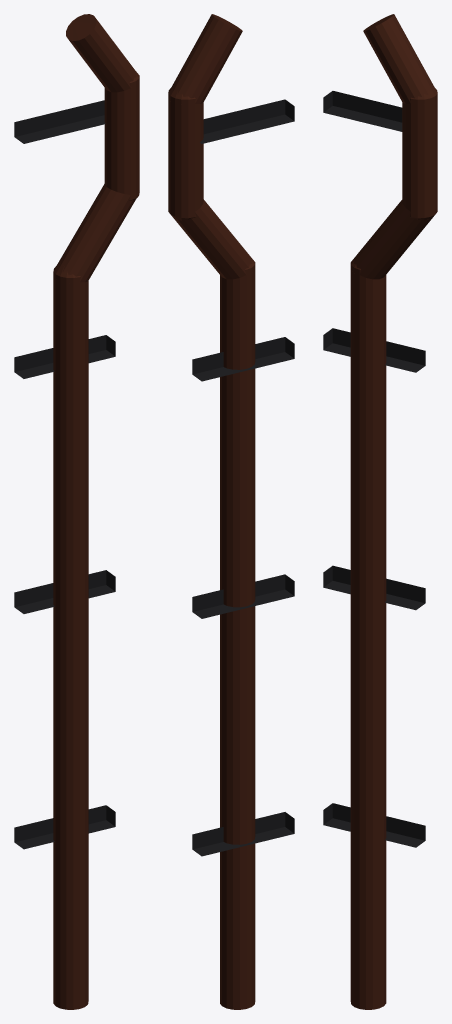
The model's file is GalakasMidCity_PIECE_DrainpipeMetal_01.obj.
3 renders of one model, left to right at view 1: azimuth 30°, elevation 25°; view 2: azimuth 210°, elevation 25°; view 3: azimuth 330°, elevation 25°, orthographic.
Parts seen in each view (by area): view 1: high_quality_curved_drainpipe_seg0, high_quality_curved_drainpipe_seg2, high_quality_curved_drainpipe_seg1, high_quality_curved_drainpipe_seg3, pipe_wall_bracket_4_1, pipe_wall_bracket_0_8, pipe_wall_bracket_3_0, pipe_wall_bracket_1_9, high_quality_curved_drainpipe_seg3_capB; view 2: high_quality_curved_drainpipe_seg0, high_quality_curved_drainpipe_seg2, high_quality_curved_drainpipe_seg3, high_quality_curved_drainpipe_seg1, pipe_wall_bracket_4_1, pipe_wall_bracket_0_8, pipe_wall_bracket_3_0, pipe_wall_bracket_1_9; view 3: high_quality_curved_drainpipe_seg0, high_quality_curved_drainpipe_seg2, high_quality_curved_drainpipe_seg3, high_quality_curved_drainpipe_seg1, pipe_wall_bracket_4_1, pipe_wall_bracket_1_9, pipe_wall_bracket_0_8, pipe_wall_bracket_3_0.
Part boxes in pixels (x1,y1,x2,y2): high_quality_curved_drainpipe_seg0: (53, 277, 88, 1009); high_quality_curved_drainpipe_seg2: (104, 81, 139, 194); high_quality_curved_drainpipe_seg1: (56, 184, 136, 282); high_quality_curved_drainpipe_seg3: (69, 19, 137, 92); pipe_wall_bracket_4_1: (14, 100, 105, 143); pipe_wall_bracket_0_8: (14, 805, 115, 849); pipe_wall_bracket_3_0: (14, 335, 115, 378); pipe_wall_bracket_1_9: (14, 570, 115, 613); high_quality_curved_drainpipe_seg3_capB: (66, 14, 96, 40); high_quality_curved_drainpipe_seg0: (220, 268, 255, 1009); high_quality_curved_drainpipe_seg2: (168, 99, 203, 212); high_quality_curved_drainpipe_seg3: (171, 14, 242, 103); high_quality_curved_drainpipe_seg1: (174, 199, 252, 279); pipe_wall_bracket_4_1: (200, 99, 294, 143); pipe_wall_bracket_0_8: (192, 812, 294, 856); pipe_wall_bracket_3_0: (192, 337, 294, 381); pipe_wall_bracket_1_9: (192, 574, 294, 618); high_quality_curved_drainpipe_seg0: (350, 268, 386, 1009); high_quality_curved_drainpipe_seg2: (402, 99, 437, 212); high_quality_curved_drainpipe_seg3: (363, 14, 434, 103); high_quality_curved_drainpipe_seg1: (353, 200, 432, 279); pipe_wall_bracket_4_1: (323, 91, 402, 131); pipe_wall_bracket_1_9: (323, 565, 425, 610); pipe_wall_bracket_0_8: (323, 803, 425, 847); pipe_wall_bracket_3_0: (323, 328, 425, 372).
Size of the model in its own units: 0.55 by 4.59 by 0.165.
